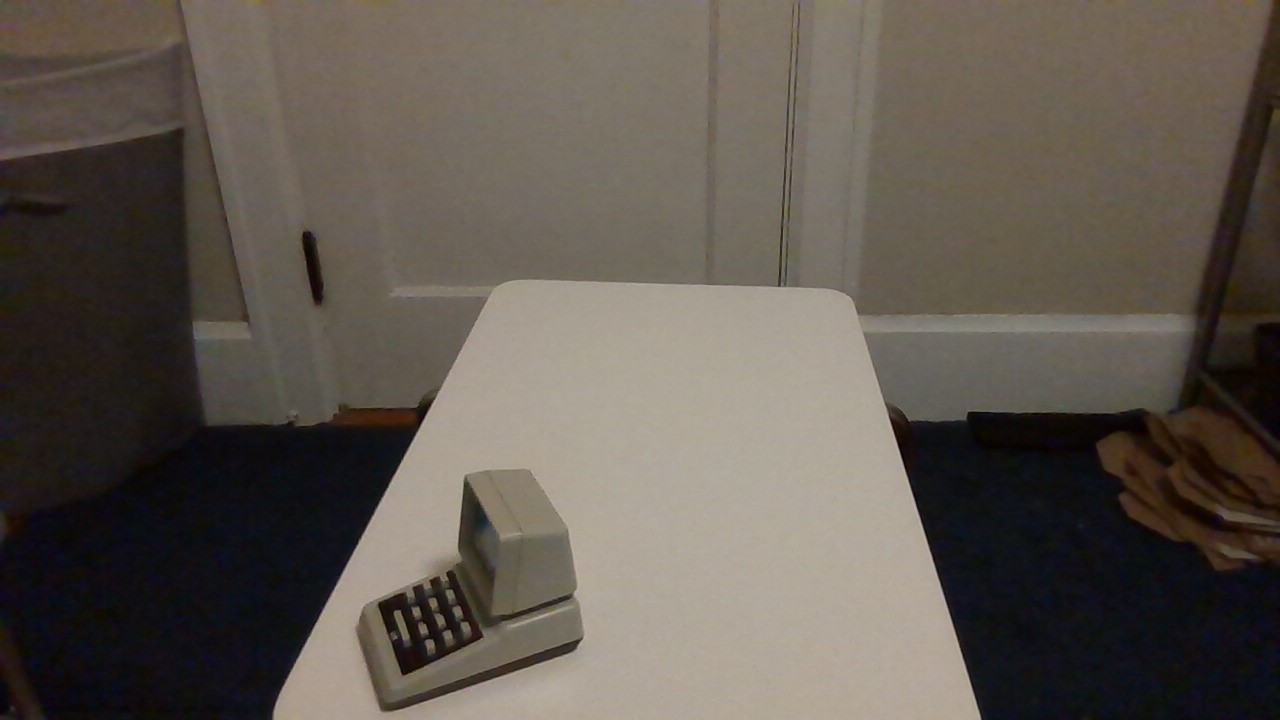Toy: (305, 454, 628, 713)
